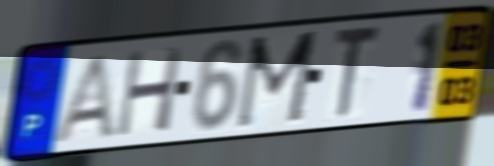1: (411, 17, 446, 114)
6: (186, 35, 247, 137)
A: (49, 51, 120, 143)
H: (113, 44, 187, 140)
M: (232, 27, 324, 133)
T: (331, 22, 383, 124)
